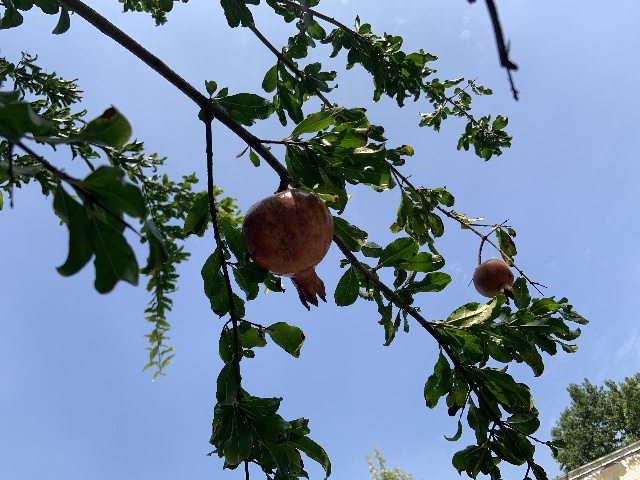ripe: (242, 189, 333, 311), (473, 258, 514, 305)
